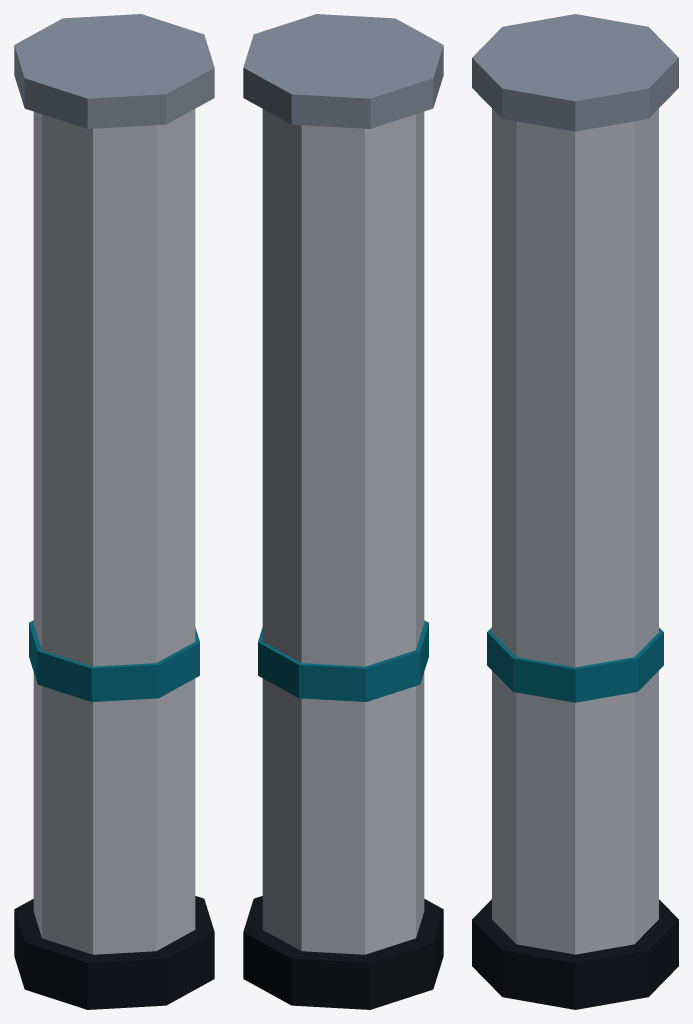
Rendered from SM_Pillar_Round.glb.
3 views of the same model, side by side, from view 1: azimuth 30°, elevation 25°; view 2: azimuth 150°, elevation 25°; view 3: azimuth 270°, elevation 25° (orthographic).
Parts seen in each view (by area): view 1: SM_Pillar_Round-col; view 2: SM_Pillar_Round-col; view 3: SM_Pillar_Round-col.
Boxes of the visible parts, box(x1,y1,x2,y2) form: SM_Pillar_Round-col: box(14, 14, 214, 1009); SM_Pillar_Round-col: box(243, 14, 443, 1009); SM_Pillar_Round-col: box(472, 14, 678, 1009).
Size of the model in its own units: 0.62 by 3 by 0.62.
